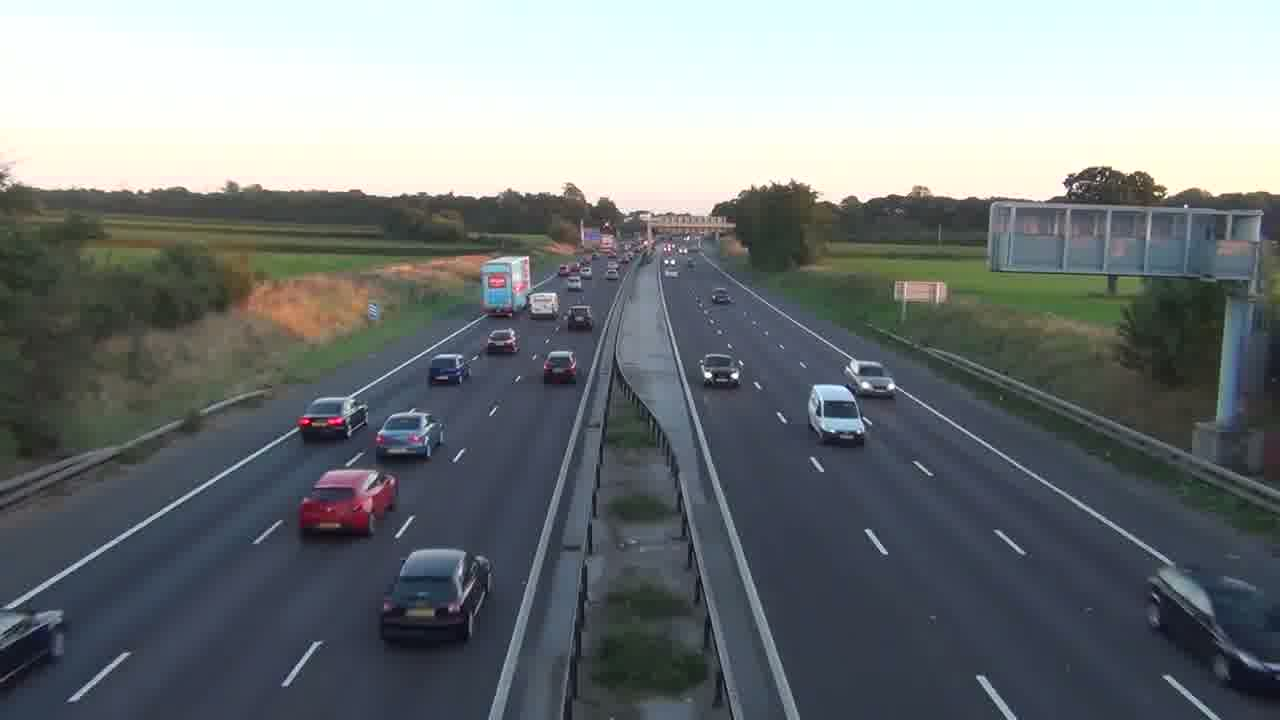car: (379, 547, 494, 645), (298, 467, 398, 536), (374, 410, 446, 460), (296, 396, 367, 441), (841, 358, 897, 399), (699, 352, 744, 389), (428, 352, 469, 386), (542, 349, 578, 385), (483, 328, 519, 355), (566, 305, 593, 332), (711, 289, 732, 304)
truck: (1144, 563, 1280, 694), (0, 603, 67, 689), (808, 382, 871, 445)
